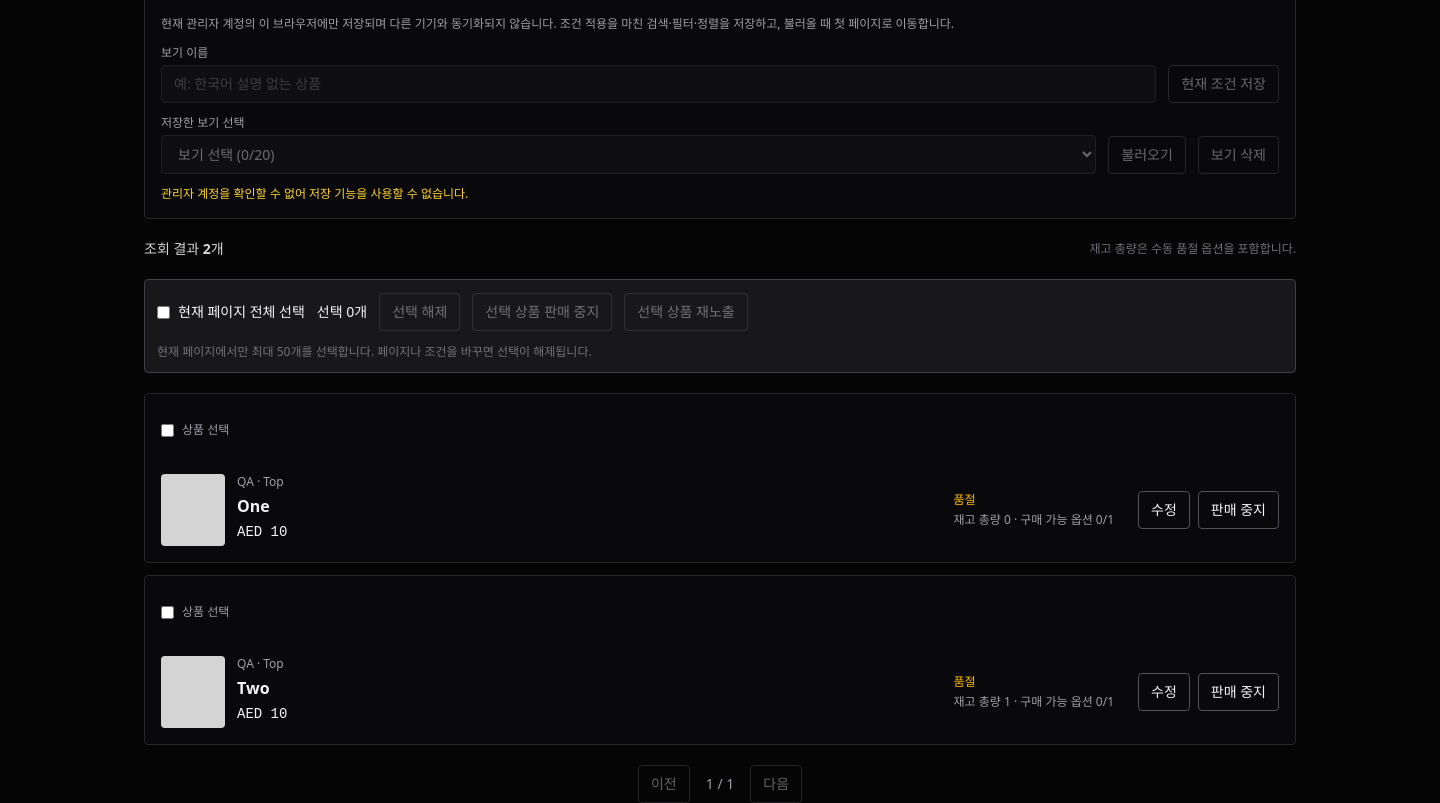
Test case: bulk visibility workflow › supports Escape and focus restoration without writing
(page scrolled)
Click the checkbox named "One 선택" at (168, 430), box [161,424,174,436]
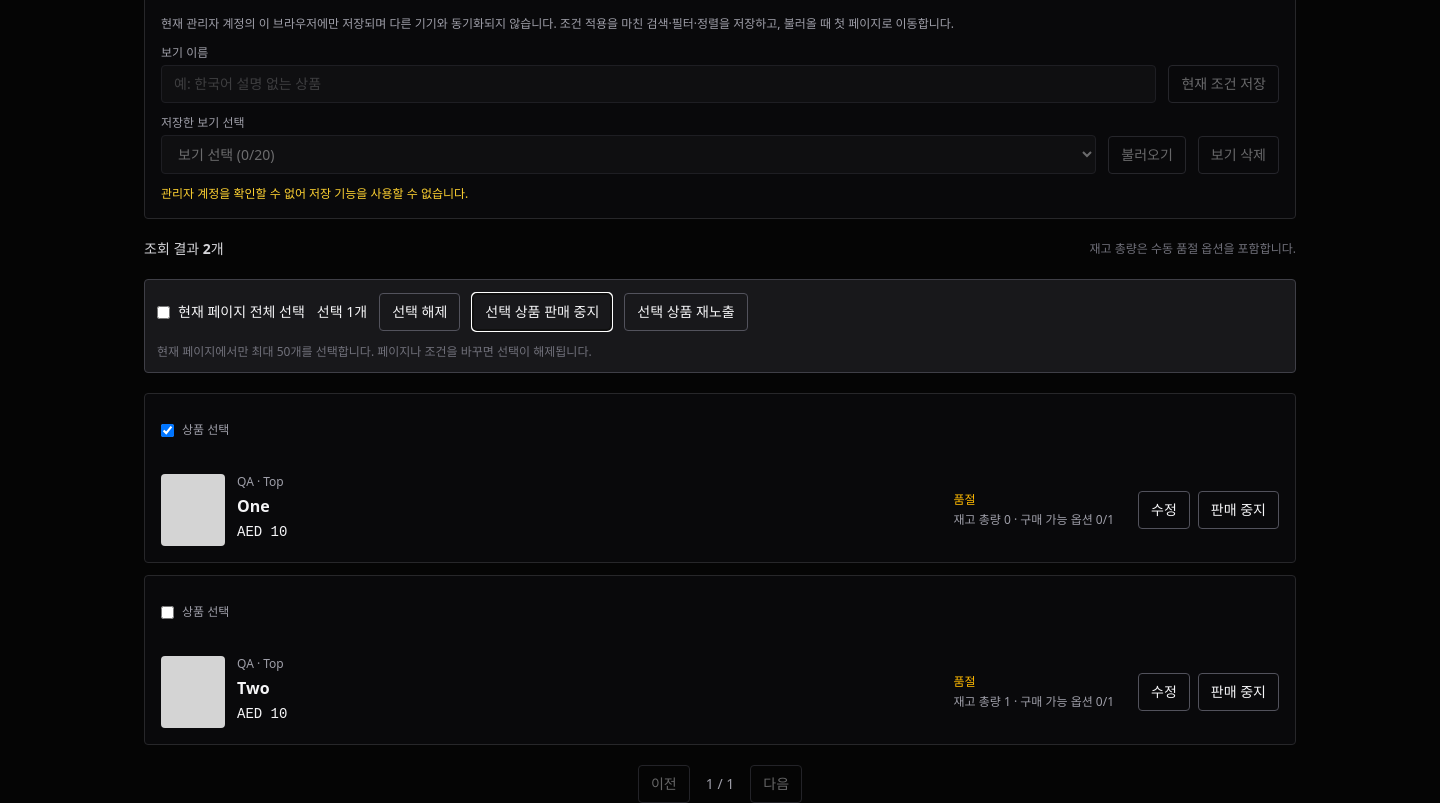
Click the button "선택 상품 판매 중지" at (542, 312), box [472,293,612,331]
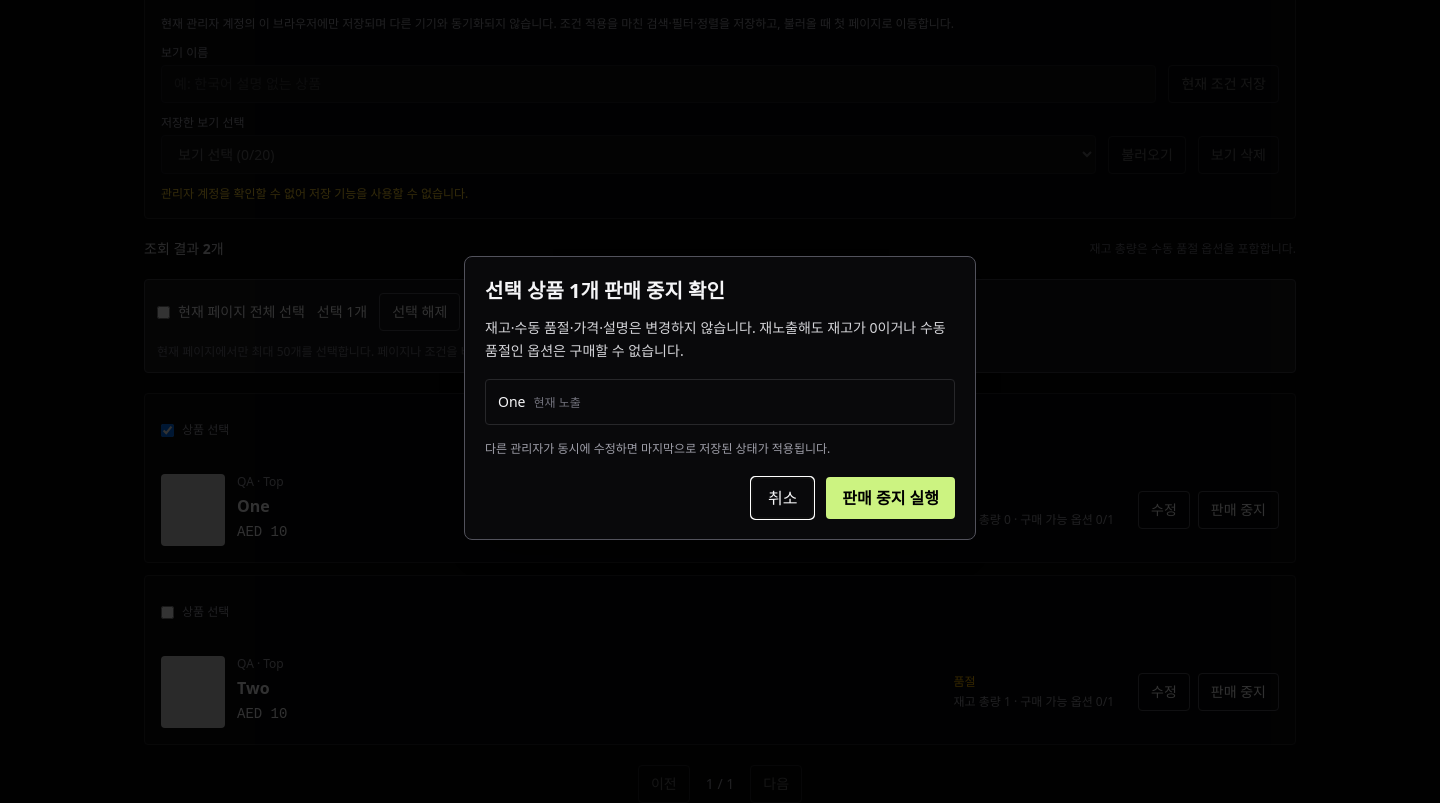
Press Tab in the button "취소", box [751,477,814,519]
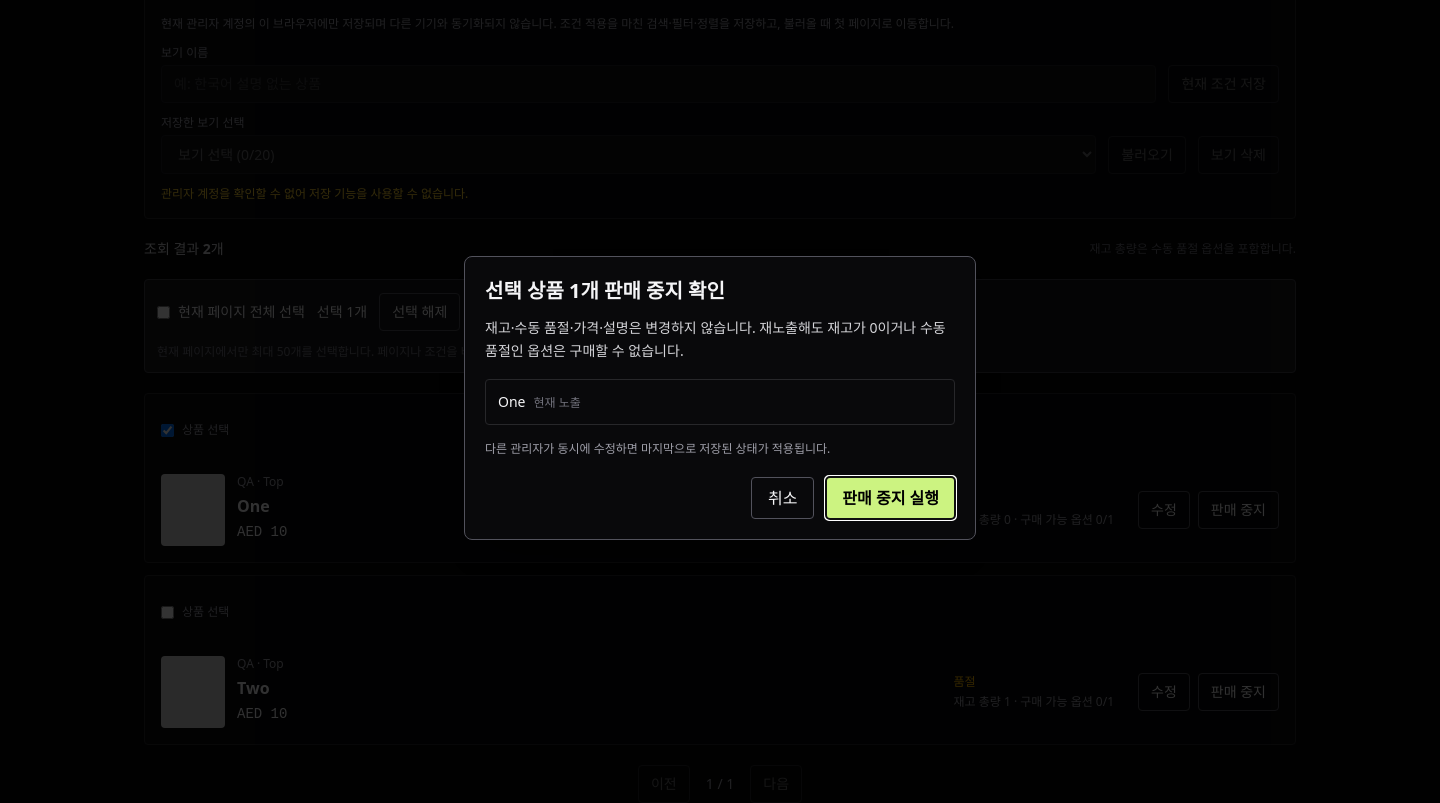
Press Tab in the button "판매 중지 실행", box [826,477,955,519]
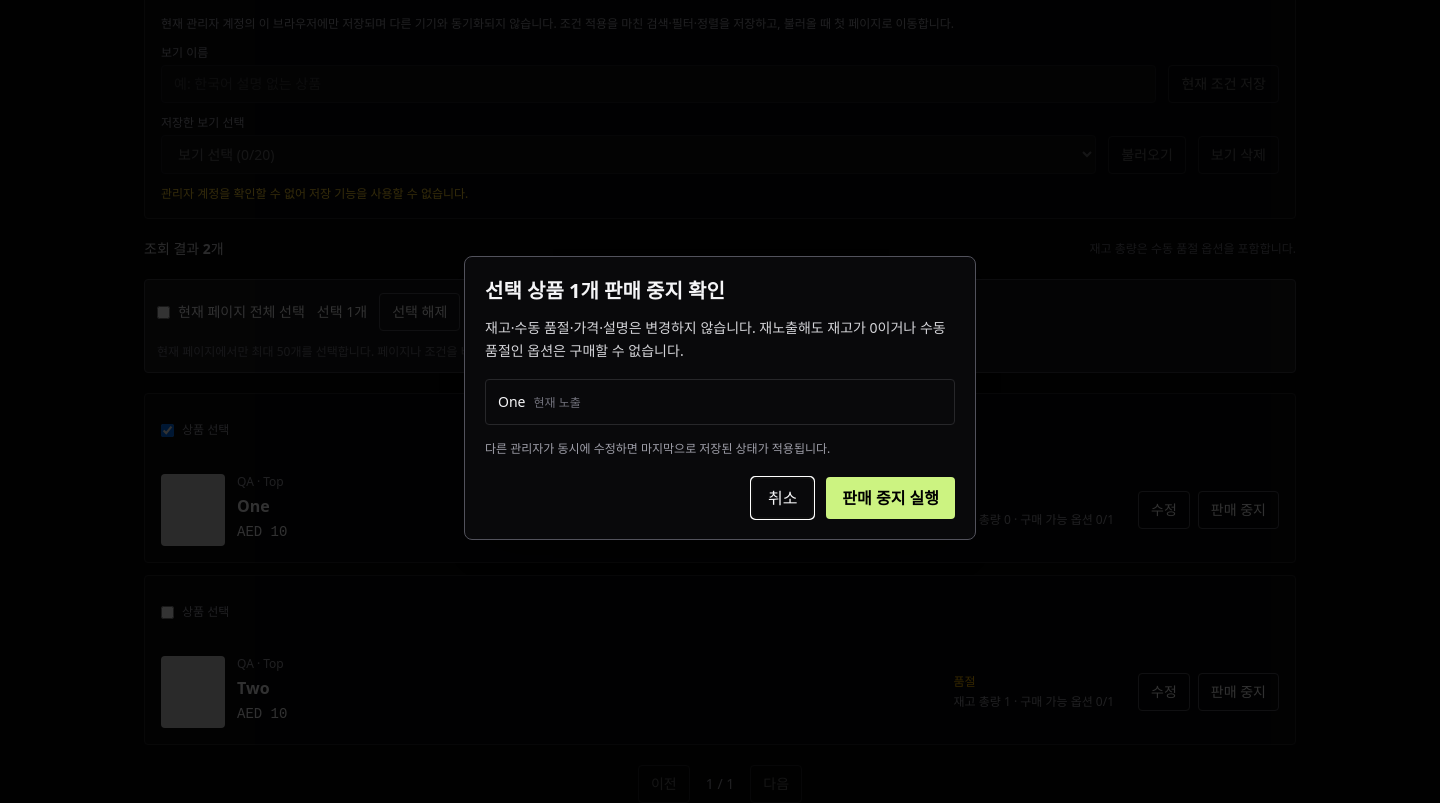
Press Escape in the button "취소", box [751,477,814,519]
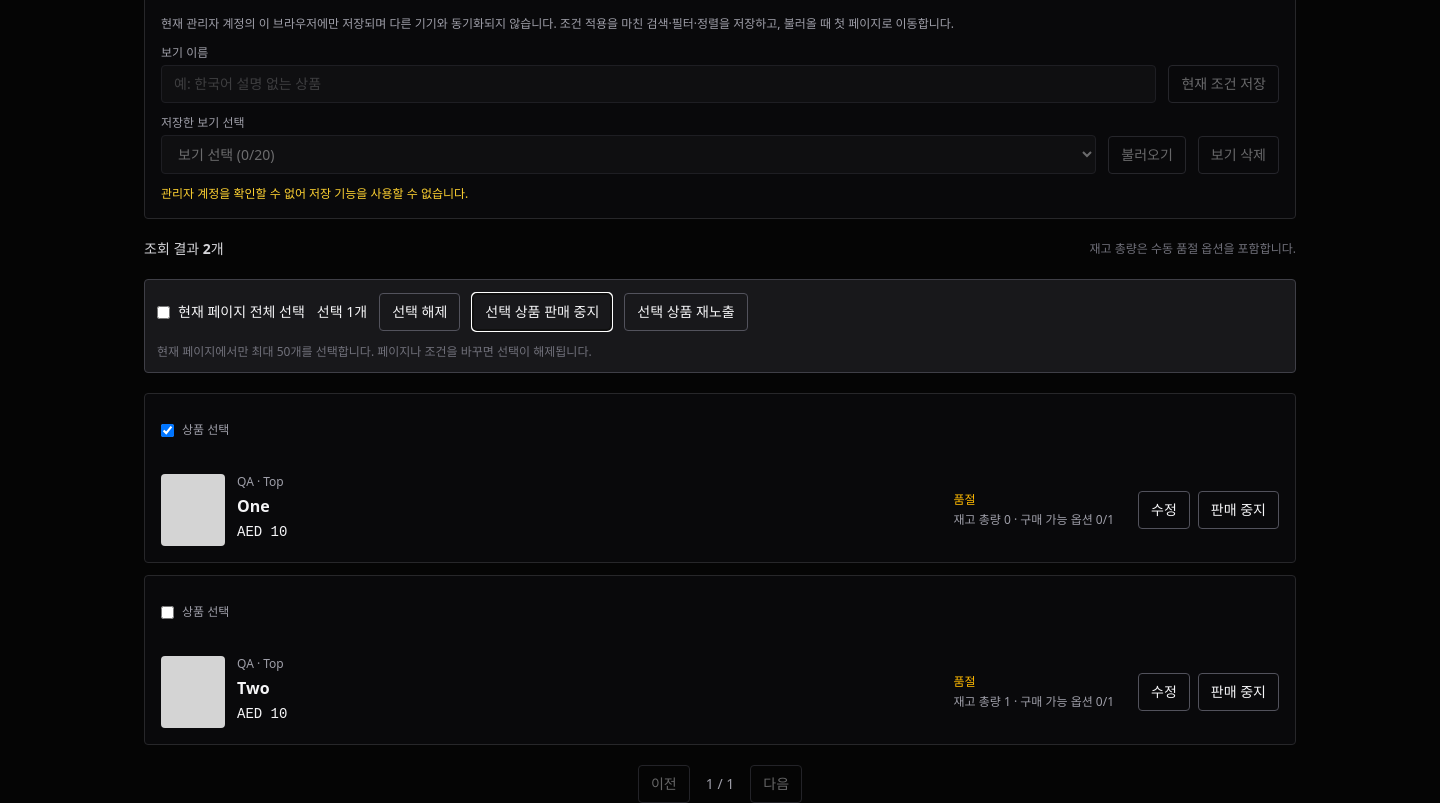
Check: the dialog is gone
